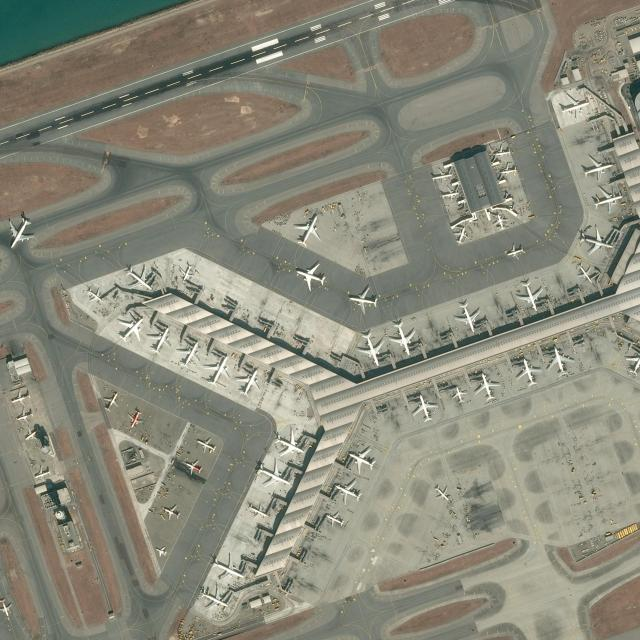1: (624, 350, 640, 374), (0, 596, 15, 618)
aircraft: (4, 214, 38, 248), (255, 457, 292, 487), (388, 318, 417, 356), (294, 260, 328, 292), (356, 328, 384, 366), (272, 428, 306, 458), (292, 212, 321, 247), (346, 283, 378, 313), (545, 346, 575, 378), (453, 299, 481, 333), (558, 89, 589, 119), (211, 552, 244, 580), (123, 262, 153, 292), (114, 313, 144, 343), (591, 184, 622, 213), (580, 226, 612, 254), (515, 279, 543, 311), (198, 583, 230, 610), (580, 152, 610, 180), (174, 339, 202, 369), (205, 352, 231, 384), (412, 392, 439, 422), (234, 368, 260, 398), (146, 325, 172, 355), (516, 358, 542, 388), (475, 371, 501, 401), (346, 448, 376, 472), (333, 480, 362, 504), (246, 500, 270, 520), (6, 386, 32, 404), (430, 166, 454, 184), (194, 436, 217, 454), (576, 262, 595, 283), (505, 241, 525, 260), (101, 391, 120, 411), (84, 286, 104, 304), (432, 484, 452, 502), (32, 464, 52, 482), (16, 406, 35, 424), (127, 408, 144, 428), (452, 224, 468, 245), (324, 511, 345, 527), (160, 504, 181, 520), (182, 460, 204, 475), (492, 142, 511, 158), (440, 186, 460, 201), (179, 261, 194, 281), (499, 162, 517, 178), (492, 212, 508, 230), (22, 426, 40, 442), (452, 384, 466, 404), (152, 544, 168, 558)
